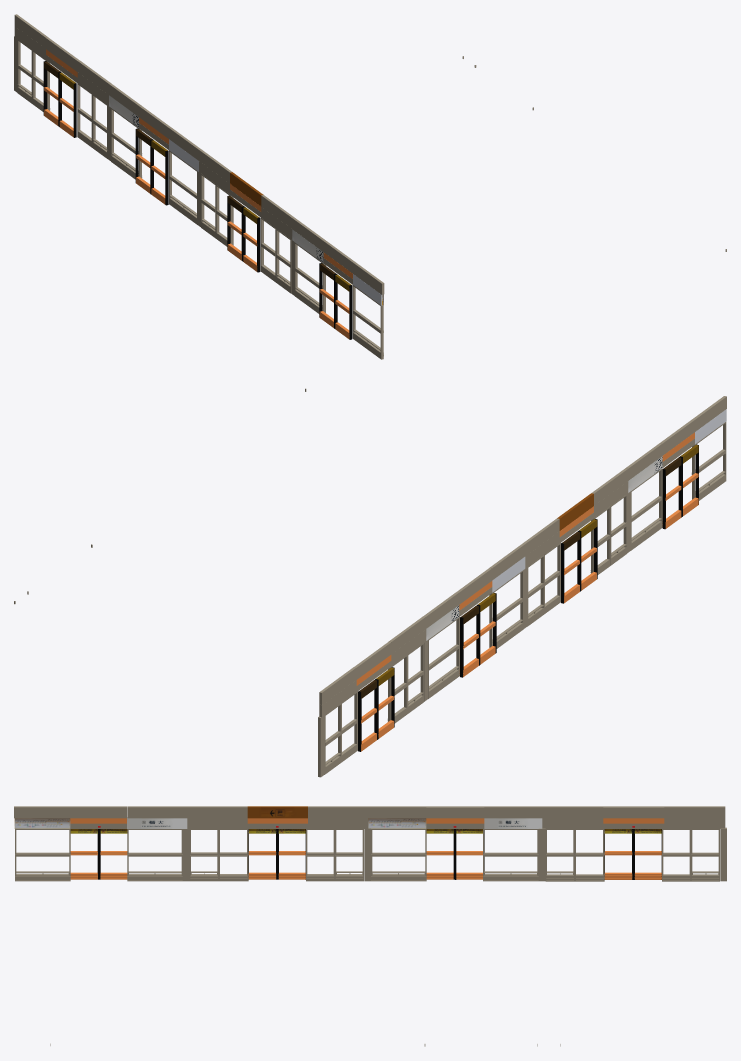
Rendered from Platform_hl.fbx.
The picture shows the model from 3 angles, top to bottom: view 1: azimuth 30°, elevation 25°; view 2: azimuth 150°, elevation 25°; view 3: azimuth 270°, elevation 25°; orthographic projection. The views are drawn at different scales.
Parts seen in each view (by area): view 1: no part large enough to name; view 2: no part large enough to name; view 3: 立方體.216, 立方體.215, 立方體.222, 立方體.212, 立方體.214, 立方體.213, 立方體.209, 立方體.219, 立方體.220, 立方體.221, 立方體.211, 立方體.210 (+13 smaller).
Part boxes in pixels (left/top/right/bottom): 立方體.216: left=664, top=806, right=725, bottom=818; 立方體.215: left=542, top=806, right=603, bottom=818; 立方體.222: left=603, top=806, right=664, bottom=818; 立方體.212: left=187, top=806, right=247, bottom=818; 立方體.214: left=308, top=806, right=368, bottom=818; 立方體.213: left=247, top=806, right=307, bottom=818; 立方體.209: left=127, top=806, right=187, bottom=818; 立方體.219: left=368, top=806, right=426, bottom=818; 立方體.220: left=426, top=806, right=484, bottom=818; 立方體.221: left=484, top=806, right=542, bottom=818; 立方體.211: left=14, top=806, right=71, bottom=818; 立方體.210: left=71, top=806, right=127, bottom=818.
Size of the model in its own units: 3023 by 601 by 5244.
